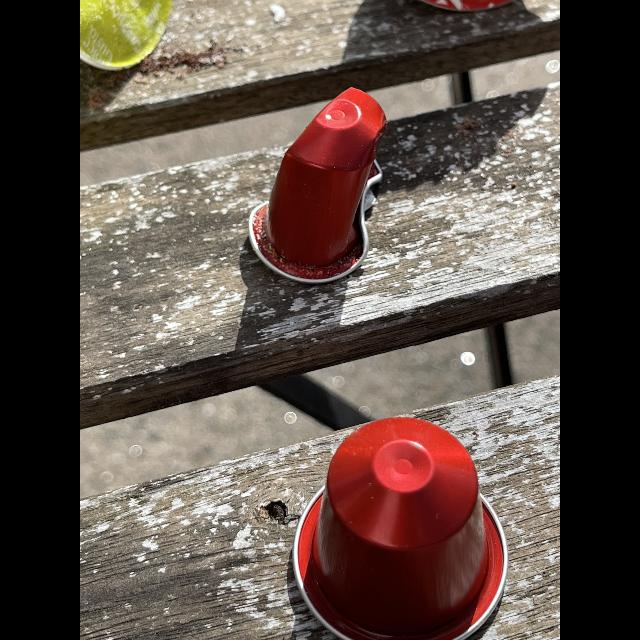damaged_capsule: (223, 77, 404, 305)
intact_capsule: (284, 404, 550, 640)
